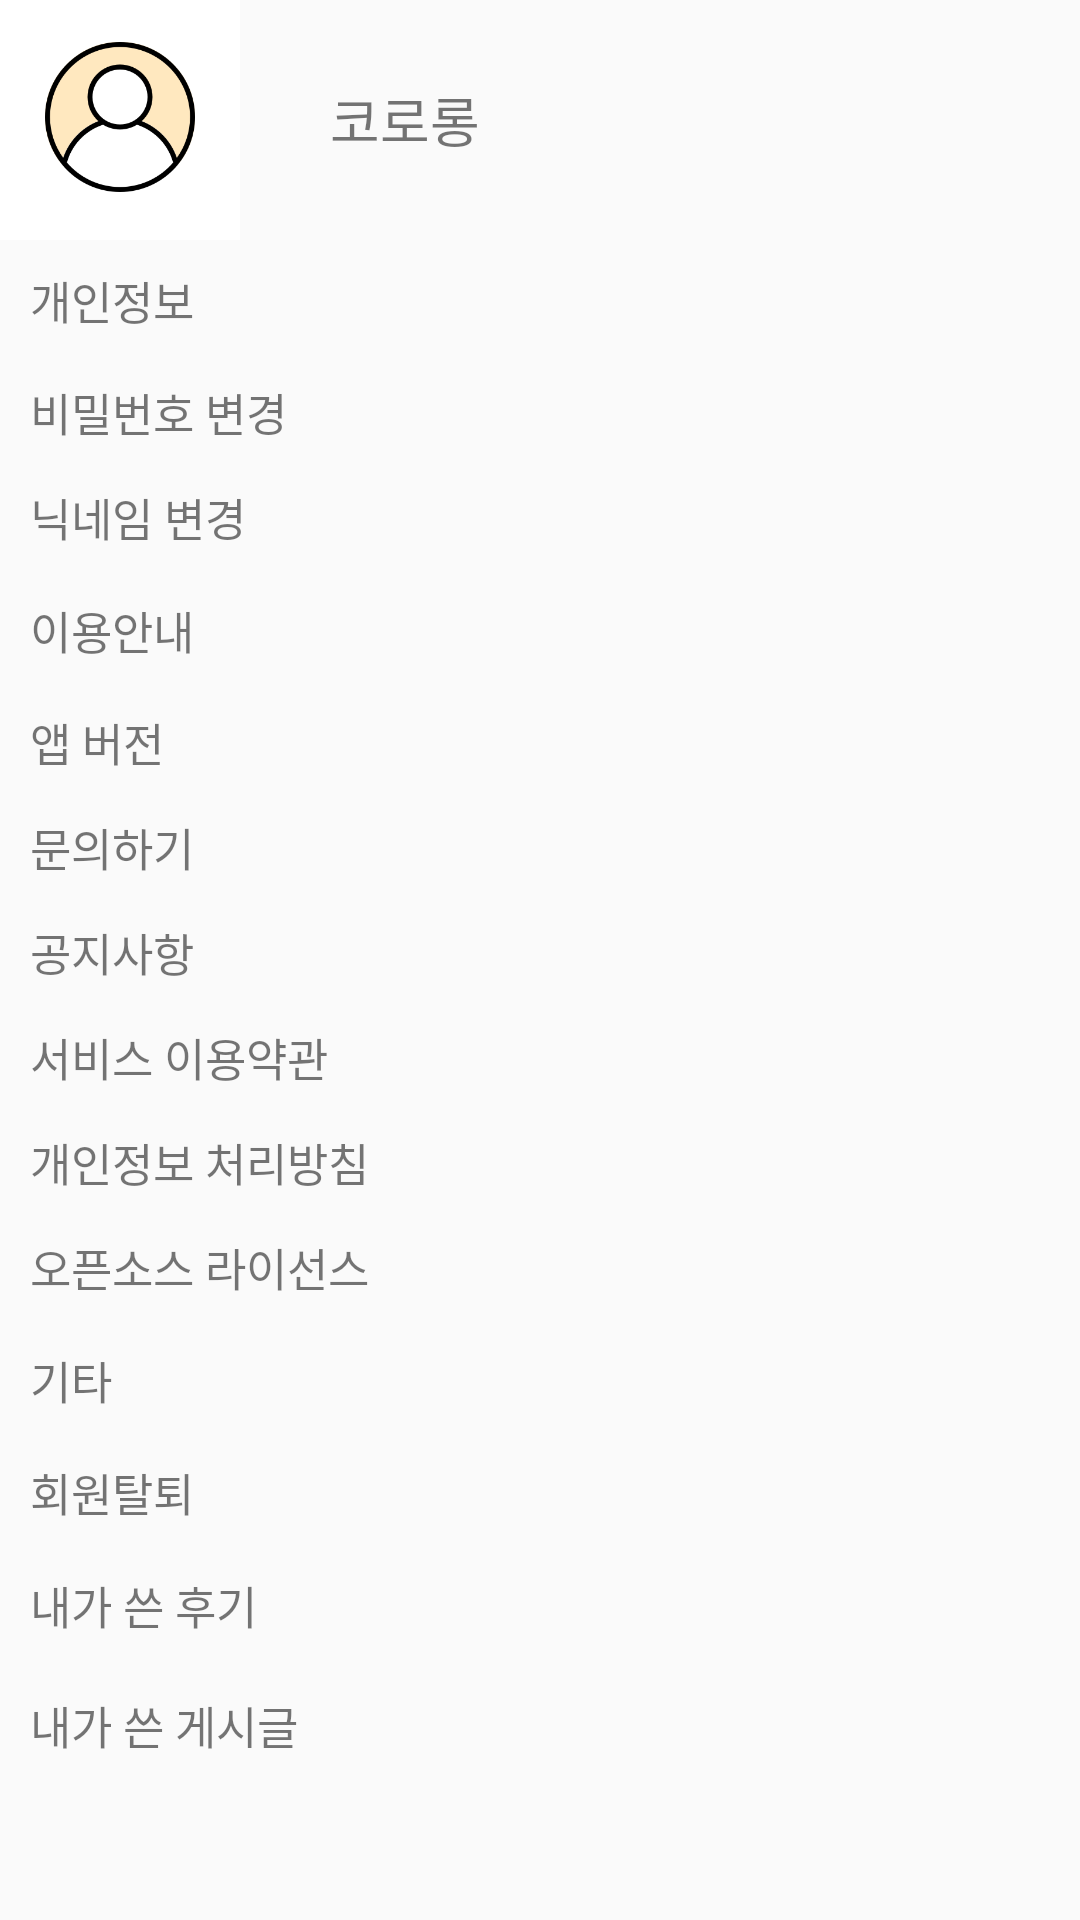

Named icons in this screenshot (1080*1920) and their centers, (x,y):
myuser: (120,117)
